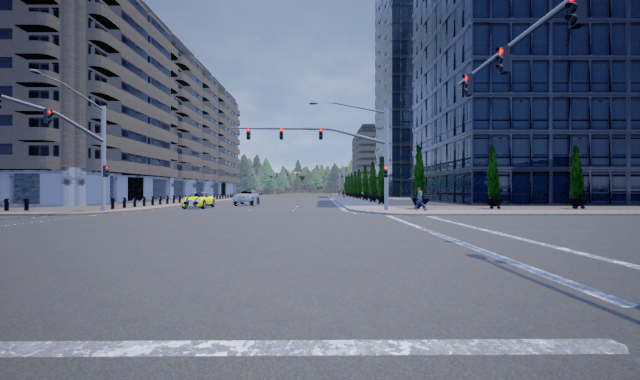pedestrian: (413, 185, 426, 211)
vehicle: (231, 187, 260, 207), (181, 191, 215, 208)
